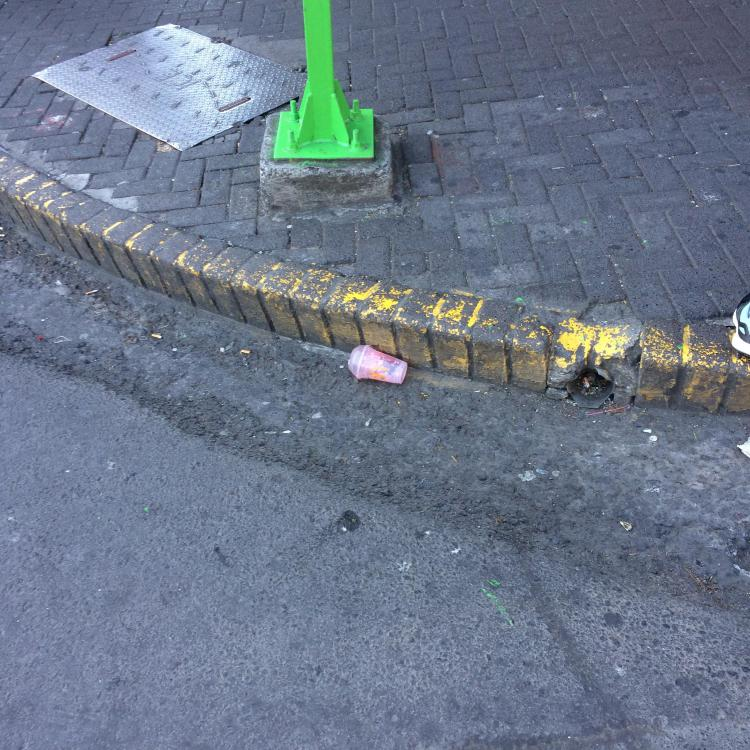Cigarette: (240, 348, 251, 354), (86, 289, 98, 294), (584, 377, 590, 387), (151, 333, 161, 338)
Disposable plastic cup: (348, 345, 408, 384)
Plastic lid: (348, 345, 368, 378)
